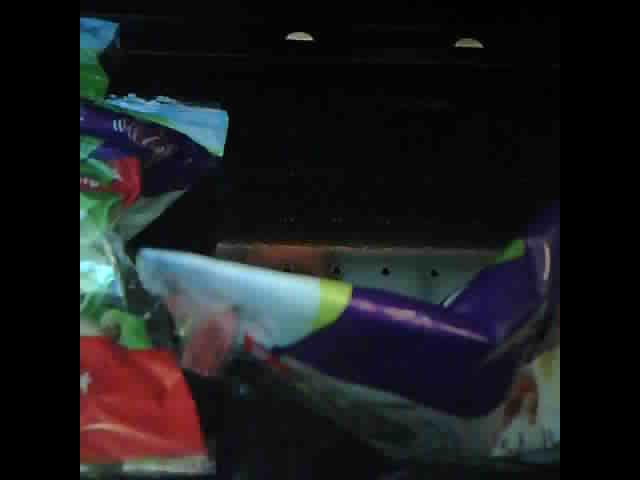florette: (137, 229, 559, 467), (80, 11, 231, 477)
